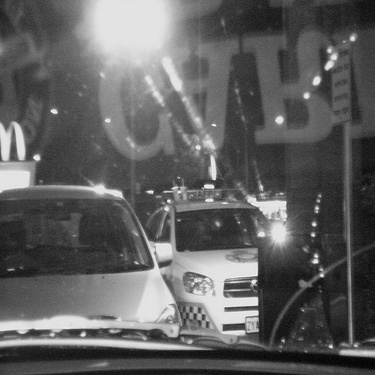car: (1, 175, 184, 357), (130, 181, 289, 361)
